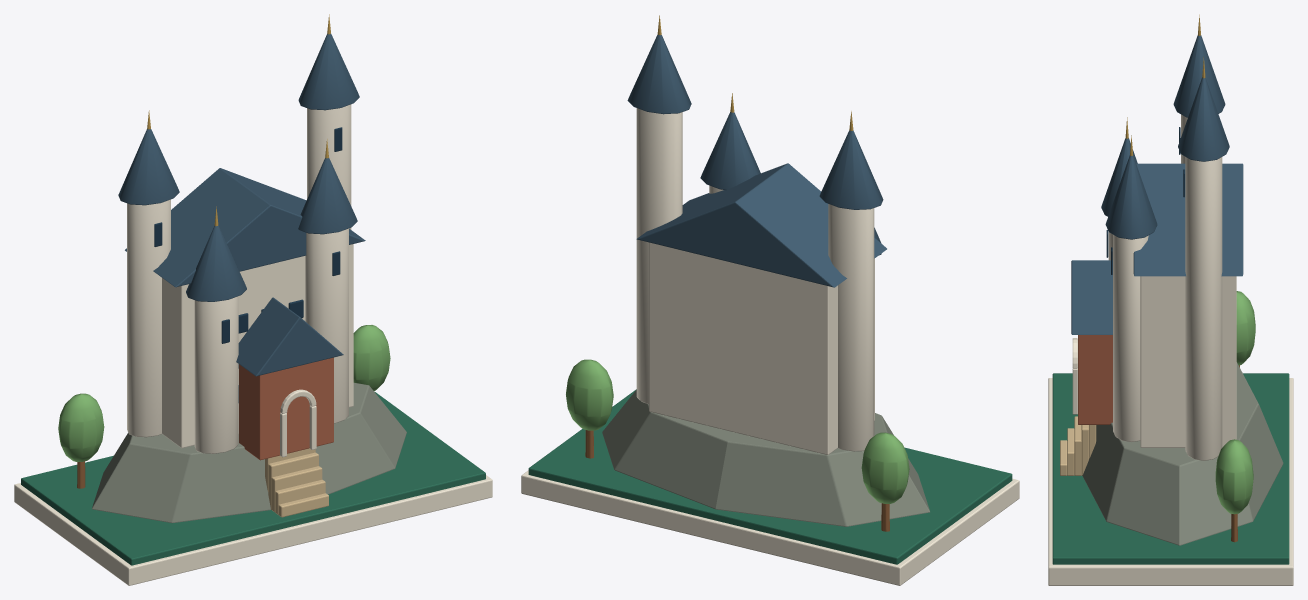
The model's file is neuschwanstein-castle.glb.
The picture shows the model from 3 angles, left to right: view 1: azimuth 30°, elevation 25°; view 2: azimuth 150°, elevation 25°; view 3: azimuth 270°, elevation 25°; orthographic projection. The views are drawn at different scales.
Visible parts, largest first — view 1: Neuschwanstein Castle; view 2: Neuschwanstein Castle; view 3: Neuschwanstein Castle.
Boxes of the visible parts, <box> form: Neuschwanstein Castle: <box>14,14,492,585</box>; Neuschwanstein Castle: <box>521,15,1019,585</box>; Neuschwanstein Castle: <box>1048,14,1293,585</box>.
Bounding box in the file's own units: 1.47 × 1.75 × 0.8064.
